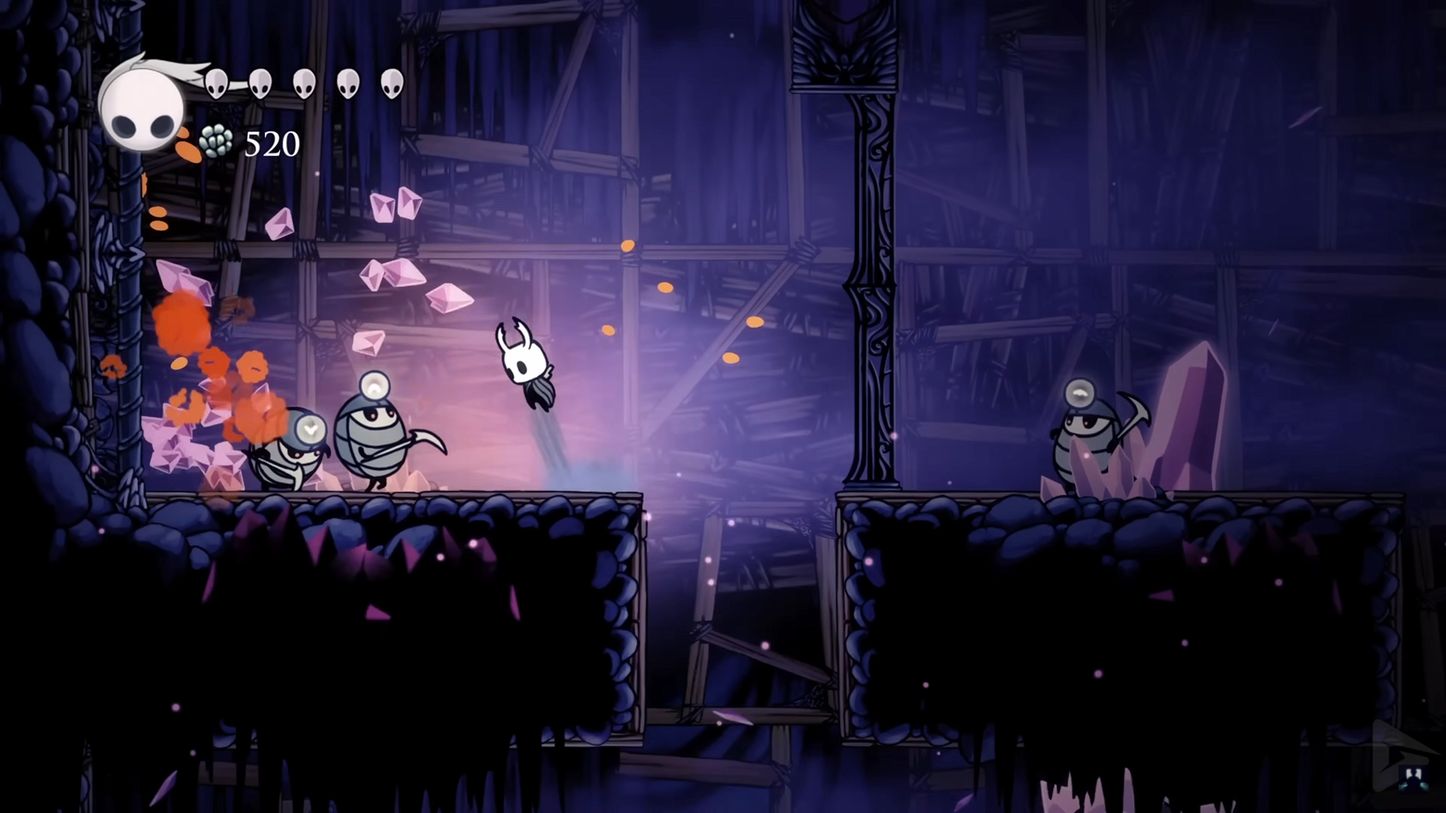HK: (496, 315, 563, 419)
